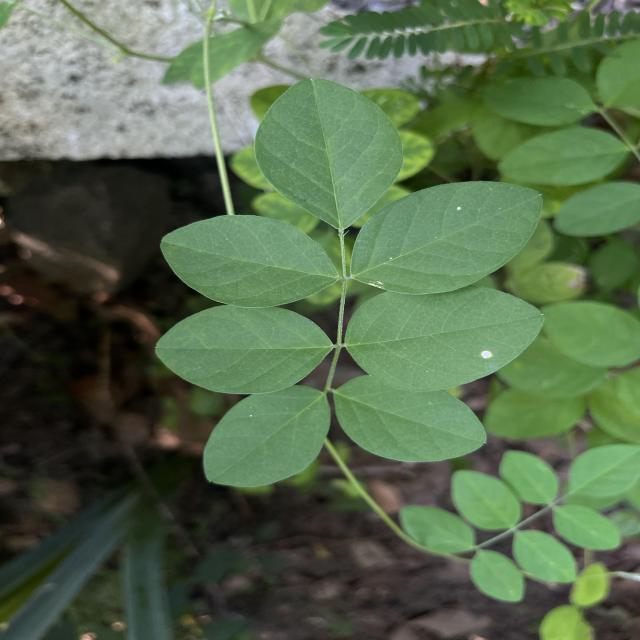Clitoria ternatea: (252, 74, 406, 231), (348, 179, 546, 297), (342, 283, 546, 394), (158, 212, 338, 312), (152, 304, 334, 398), (330, 374, 492, 467), (199, 384, 331, 490)
